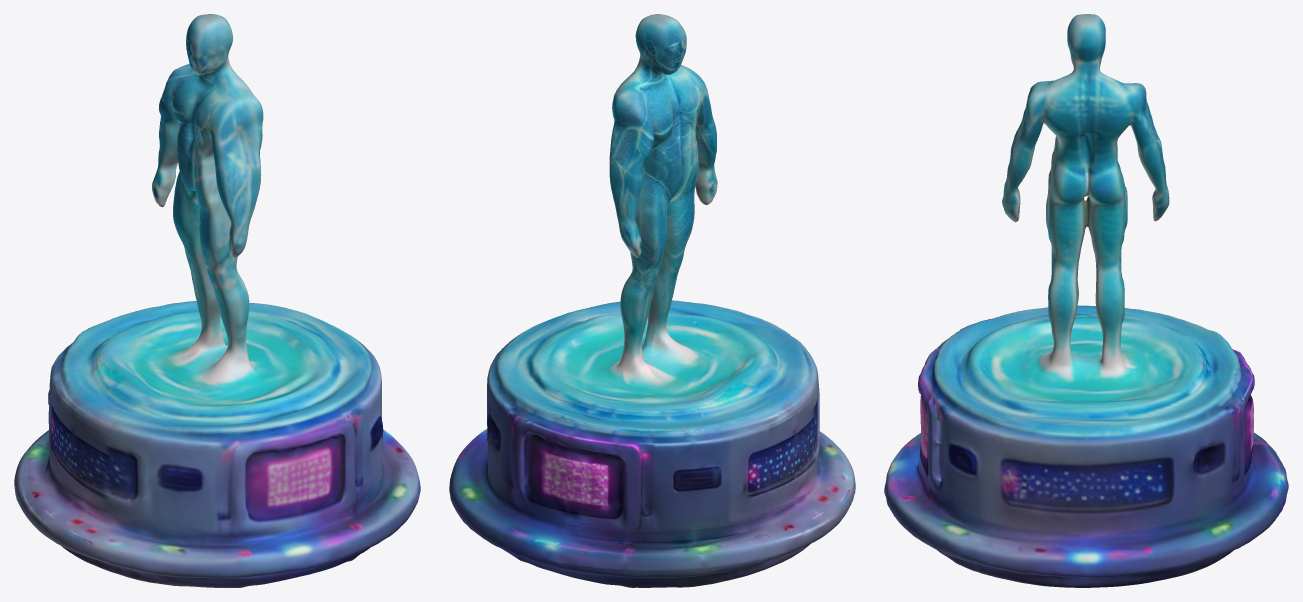
The model's file is avatar_terminal.glb.
3 renders of one model, left to right at view 1: azimuth 30°, elevation 25°; view 2: azimuth 150°, elevation 25°; view 3: azimuth 270°, elevation 25°, orthographic.
Parts seen in each view (by area): view 1: tripo_node_f2091b4c-5bc7-4259-ac23-1f926ed91772; view 2: tripo_node_f2091b4c-5bc7-4259-ac23-1f926ed91772; view 3: tripo_node_f2091b4c-5bc7-4259-ac23-1f926ed91772.
Boxes of the visible parts, left/top/right/bottom form: tripo_node_f2091b4c-5bc7-4259-ac23-1f926ed91772: left=14, top=14, right=420, bottom=587; tripo_node_f2091b4c-5bc7-4259-ac23-1f926ed91772: left=449, top=14, right=855, bottom=587; tripo_node_f2091b4c-5bc7-4259-ac23-1f926ed91772: left=884, top=14, right=1288, bottom=587.
Bounding box in the file's own units: 0.5472 × 0.7759 × 0.5498.
Materials: 1 (1 with a texture image).
